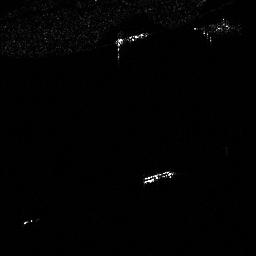ship: (142, 169, 173, 184), (114, 33, 148, 45)
